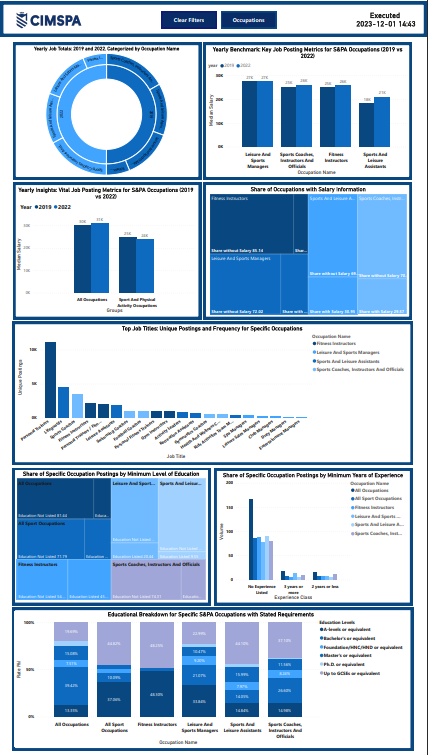

The page's visual inventory and layout, read from the dashboard file:
{"tool":"powerbi","page":{"name":"Recruitment Activity","canvas":[1248,2200],"ordinal":6},"visuals":[{"type":"shape","box":[37.3,120,550,400],"z":0},{"type":"Sunburst1445472000808","title":"Yearly Job Totals: 2019 and 2022, Categorized by Occupation Name","fields":{"Nodes":["S&PA_table_rec.year","Occupations.Name"],"Values":["Sum(S&PA_table_rec.Jobs)"]},"box":[46.1,129.1,531.4,381.4],"z":1000},{"type":"shape","box":[594.5,120,610,400],"z":2000},{"type":"clusteredColumnChart","title":"Yearly Benchmark: Key Job Posting Metrics for S&PA Occupations (2019 vs 2022)","fields":{"Category":["Occupations.Name"],"Series":["S&PA_table_rec.year"],"Y":["Sum(S&PA_table_rec.median_salary)"]},"box":[604.6,129.1,590,381.4],"z":3000},{"type":"shape","box":[0,0,1248.6,104.3],"z":4000},{"type":"image","box":[23.4,23.4,238.5,58.5],"z":5000},{"type":"actionButton","box":[646,30,161.4,48.6],"z":6000},{"type":"actionButton","box":[471.7,30,161.4,48.6],"z":7000},{"type":"card","fields":{"Values":["# Measures.Executed"]},"box":[1018.6,11.4,220,81.4],"z":8000},{"type":"shape","box":[594.5,527.1,610,400],"z":12000},{"type":"shape","box":[37.9,527.1,550,400],"z":13000},{"type":"clusteredColumnChart","title":"Yearly Insights: Vital Job Posting Metrics for S&PA Occupations (2019 vs 2022)","fields":{"Category":["Aggr_s&pa_19_22.occupation_group_year"],"Y":["Sum(Aggr_s&pa_19_22.median_salary)"],"Series":["Aggr_s&pa_19_22.Year"]},"box":[41.8,539.6,535,375],"z":14000},{"type":"shape","box":[36.4,934.7,1171.4,418.6],"z":15000},{"type":"treemap","title":"Share of Occupations with Salary Information","fields":{"Group":["Occupations.Name"],"Values":["Sum(OCC_SHARE_SAL.Value)"],"Details":["OCC_SHARE_SAL.OccupationsWithSalaryInfo"]},"box":[608.9,537.6,585.7,380],"z":16000},{"type":"columnChart","title":"Top Job Titles: Unique Postings and Frequency for Specific Occupations","fields":{"Category":["S&PA titles.name"],"Y":["Sum(S&PA titles.unique_postings)"],"Series":["Occupations.Name"]},"box":[46.1,944.8,1148.6,395.7],"z":17000},{"type":"shape","box":[626.7,1361.7,580,400],"z":18000},{"type":"clusteredColumnChart","title":"Share of Specific Occupation Postings by Minimum Years of Experience","fields":{"Series":["Occupations.Name"],"Category":["Min_YOE.ExperienceClass"],"Y":["Sum(Min_YOE.Value)"]},"box":[633.3,1371.7,561.7,380],"z":19000},{"type":"shape","box":[36.7,1361.7,580,400],"z":20000},{"type":"treemap","title":"Share of Specific Occupation Postings by Minimum Level of Education","fields":{"Group":["Occupations.Name"],"Values":["Sum(Min_Edu.Value)"],"Details":["Min_Edu.EducationClass"]},"box":[43.3,1368.3,561.7,383.3],"z":21000},{"type":"shape","box":[36.7,1768.3,1171.7,418.3],"z":22000},{"type":"hundredPercentStackedColumnChart","title":"Educational Breakdown for Specific S&PA Occupations with Stated Requirements","fields":{"Category":["Occupations.Name"],"Y":["Sum(Min_Edu_breakdown.Volume)"],"Series":["Min_Edu_breakdown.EducationLevels"]},"box":[42.7,1778.1,1148.6,395.7],"z":23000}]}

Visuals, with their boxes in screenshot pixels (x1, y1, x2, y2), scaled from the page's 1248x2200 canvas onto the 428x755 screenshot:
shape: pyautogui.locateOnScreen(13, 41, 201, 178)
"Yearly Job Totals: 2019 and 2022, Categorized by Occupation Name" Sunburst1445472000808: pyautogui.locateOnScreen(16, 44, 198, 175)
shape: pyautogui.locateOnScreen(204, 41, 413, 178)
"Yearly Benchmark: Key Job Posting Metrics for S&PA Occupations (2019 vs 2022)" clusteredColumnChart: pyautogui.locateOnScreen(207, 44, 410, 175)
shape: pyautogui.locateOnScreen(0, 0, 427, 36)
image: pyautogui.locateOnScreen(8, 8, 90, 28)
actionButton: pyautogui.locateOnScreen(222, 10, 277, 27)
actionButton: pyautogui.locateOnScreen(162, 10, 217, 27)
card - # Measures.Executed: pyautogui.locateOnScreen(349, 4, 425, 32)
shape: pyautogui.locateOnScreen(204, 181, 413, 318)
shape: pyautogui.locateOnScreen(13, 181, 202, 318)
"Yearly Insights: Vital Job Posting Metrics for S&PA Occupations (2019 vs 2022)" clusteredColumnChart: pyautogui.locateOnScreen(14, 185, 198, 314)
shape: pyautogui.locateOnScreen(12, 321, 414, 464)
"Share of Occupations with Salary Information" treemap: pyautogui.locateOnScreen(209, 184, 410, 315)
"Top Job Titles: Unique Postings and Frequency for Specific Occupations" columnChart: pyautogui.locateOnScreen(16, 324, 410, 460)
shape: pyautogui.locateOnScreen(215, 467, 414, 605)
"Share of Specific Occupation Postings by Minimum Years of Experience" clusteredColumnChart: pyautogui.locateOnScreen(217, 471, 410, 601)
shape: pyautogui.locateOnScreen(13, 467, 211, 605)
"Share of Specific Occupation Postings by Minimum Level of Education" treemap: pyautogui.locateOnScreen(15, 470, 207, 601)
shape: pyautogui.locateOnScreen(13, 607, 414, 750)
"Educational Breakdown for Specific S&PA Occupations with Stated Requirements" hundredPercentStackedColumnChart: pyautogui.locateOnScreen(15, 610, 409, 746)
